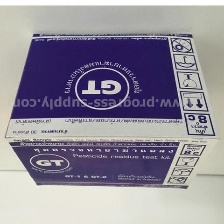book: (2, 27, 223, 192)
